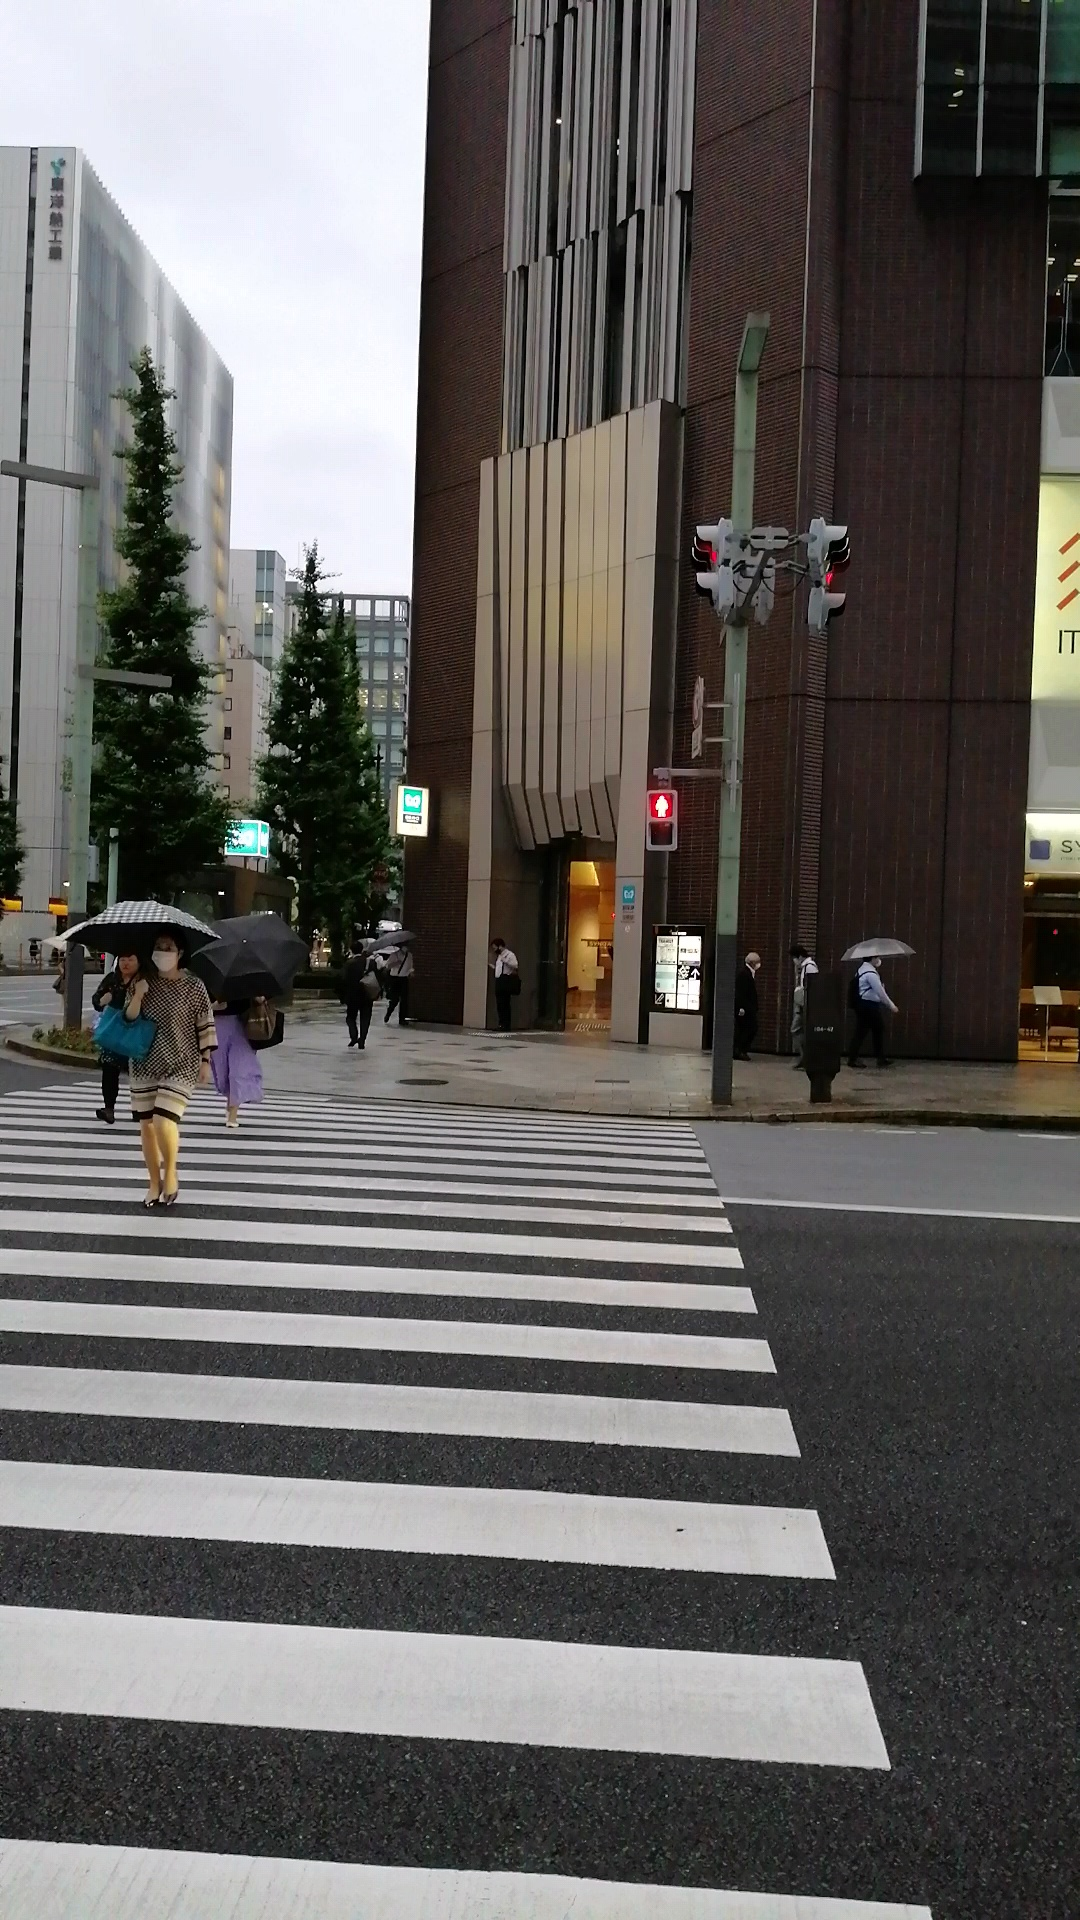red: (646, 786, 679, 852)
